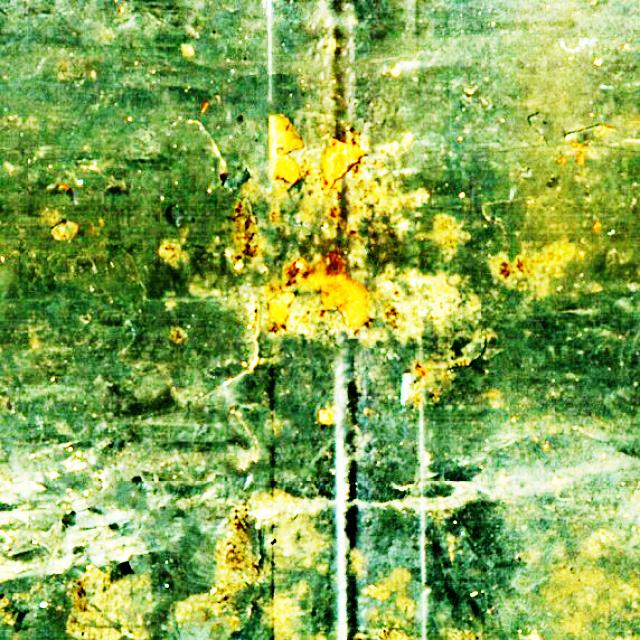Corrosion: (283, 256, 372, 329), (268, 113, 303, 183), (321, 139, 364, 191), (401, 364, 428, 402), (267, 292, 296, 324), (319, 409, 335, 425)
